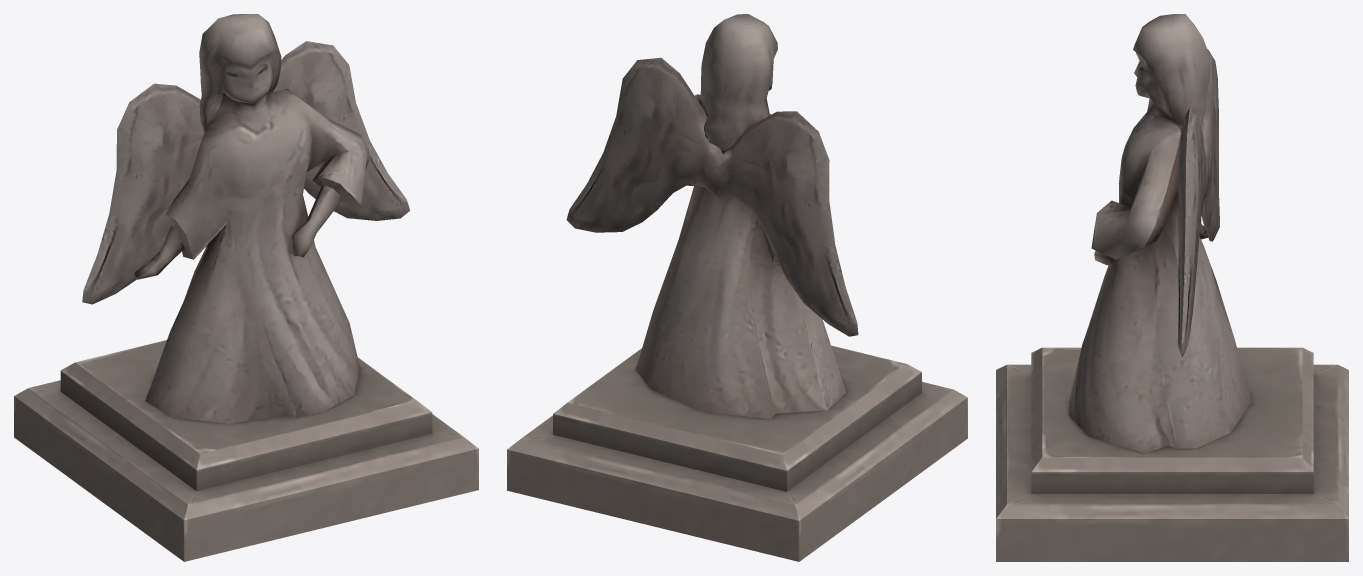
The model's file is GoddessStatues_R_HD.fbx.
The picture shows the model from 3 angles, left to right: view 1: azimuth 30°, elevation 25°; view 2: azimuth 150°, elevation 25°; view 3: azimuth 270°, elevation 25°; orthographic projection. The views are drawn at different scales.
Visible parts, largest first — view 1: GoddessStatues_R; view 2: GoddessStatues_R; view 3: GoddessStatues_R.
Part boxes in pixels (x1=…): GoddessStatues_R: x1=14, y1=14, x2=478, y2=561; GoddessStatues_R: x1=507, y1=14, x2=967, y2=561; GoddessStatues_R: x1=996, y1=14, x2=1348, y2=561.
Size of the model in its own units: 2.14 by 2.89 by 2.
